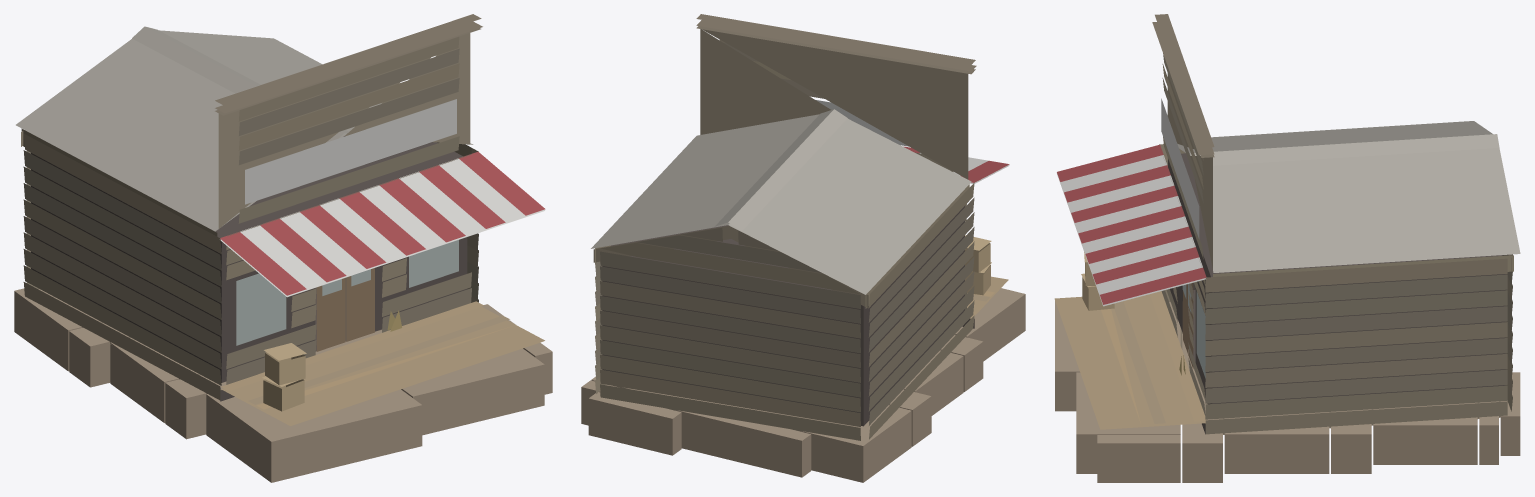
File: house_1.lod.glb
3 renders of one model, left to right at view 1: azimuth 30°, elevation 25°; view 2: azimuth 150°, elevation 25°; view 3: azimuth 270°, elevation 25°, orthographic. The views are drawn at different scales.
Visible parts, largest first — view 1: house_1; view 2: house_1; view 3: house_1.
Boxes of the visible parts, x1=… form: house_1: x1=14, y1=14, x2=552, y2=482; house_1: x1=581, y1=14, x2=1025, y2=482; house_1: x1=1054, y1=14, x2=1520, y2=482.
Size of the model in its own units: 8.98 by 8.5 by 10.98.
